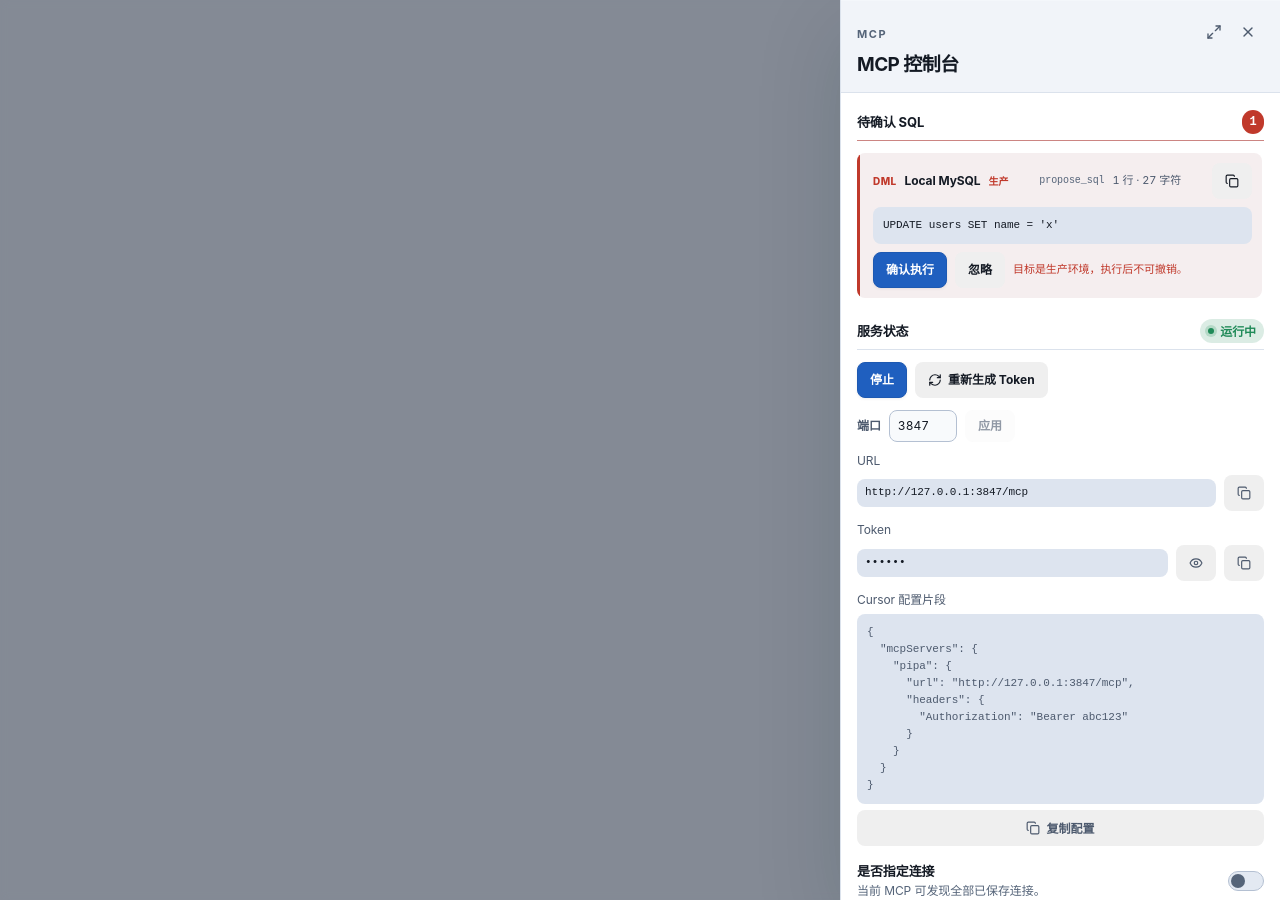
it: McpPanel › masks the bearer token until it is explicitly revealed
Check: the text "abc123" is not shown
Click the button named "显示 Token" at (1196, 563), box [1176,545,1216,581]
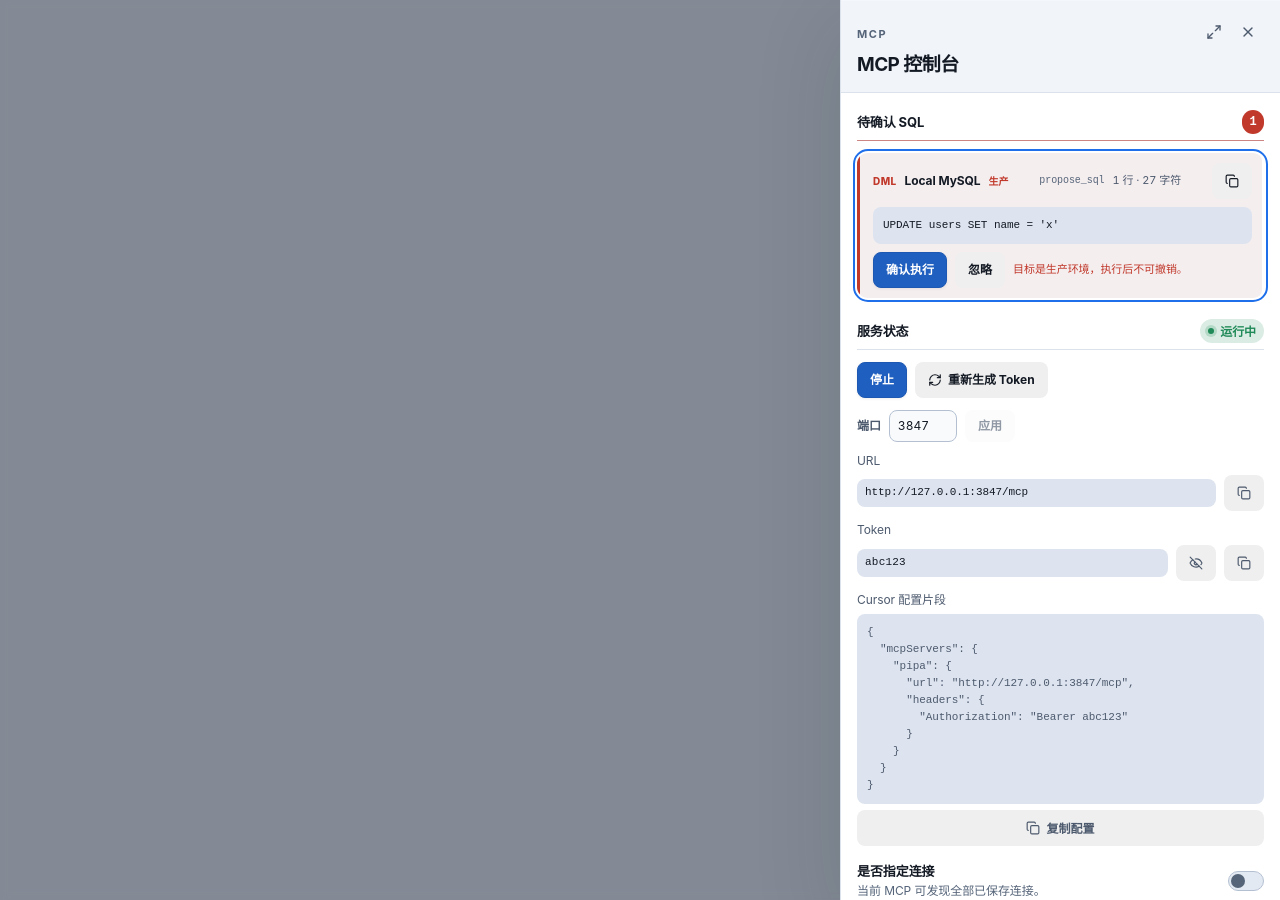
Check: the text "abc123" is shown, box [857,549,1168,576]
